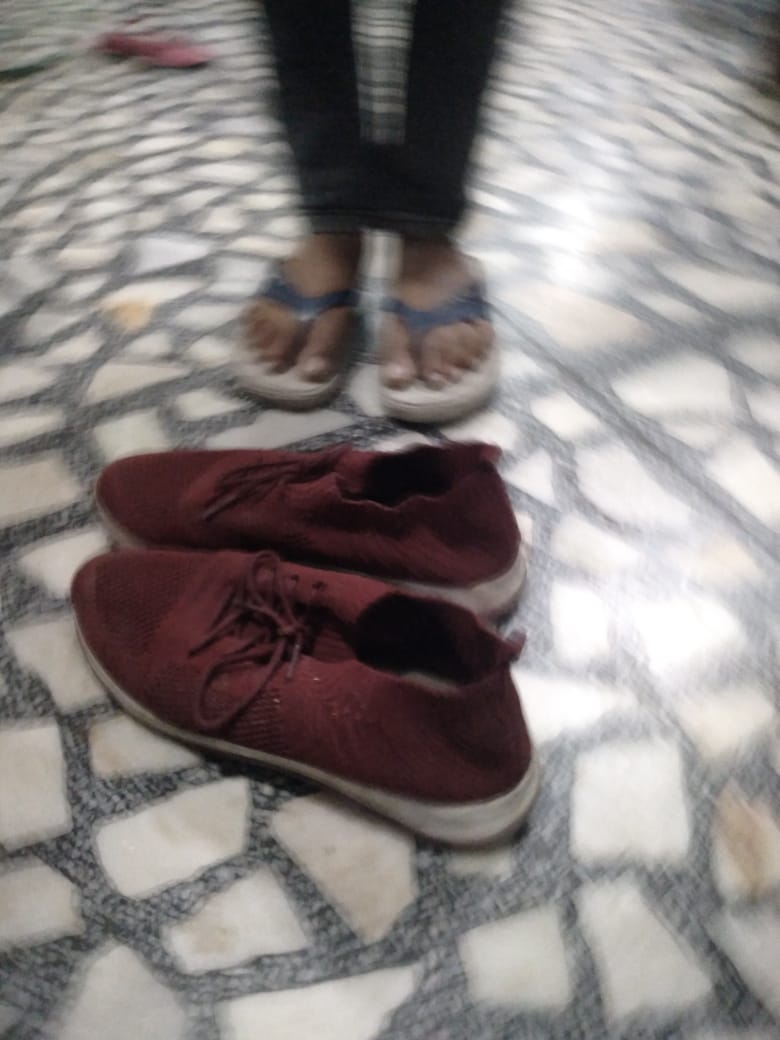Footwear: (51, 423, 592, 878)
